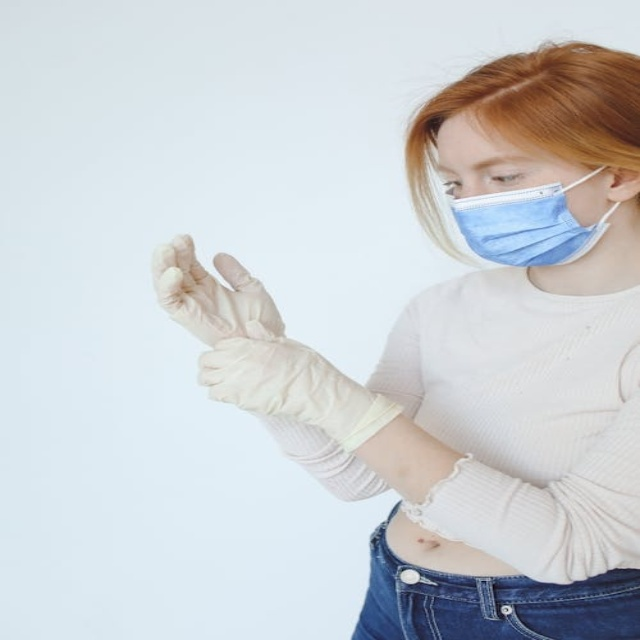Guantes: (200, 331, 404, 453), (153, 233, 286, 350)
Mascara: (441, 161, 622, 269)
Sin_gafas: (435, 158, 548, 192)
